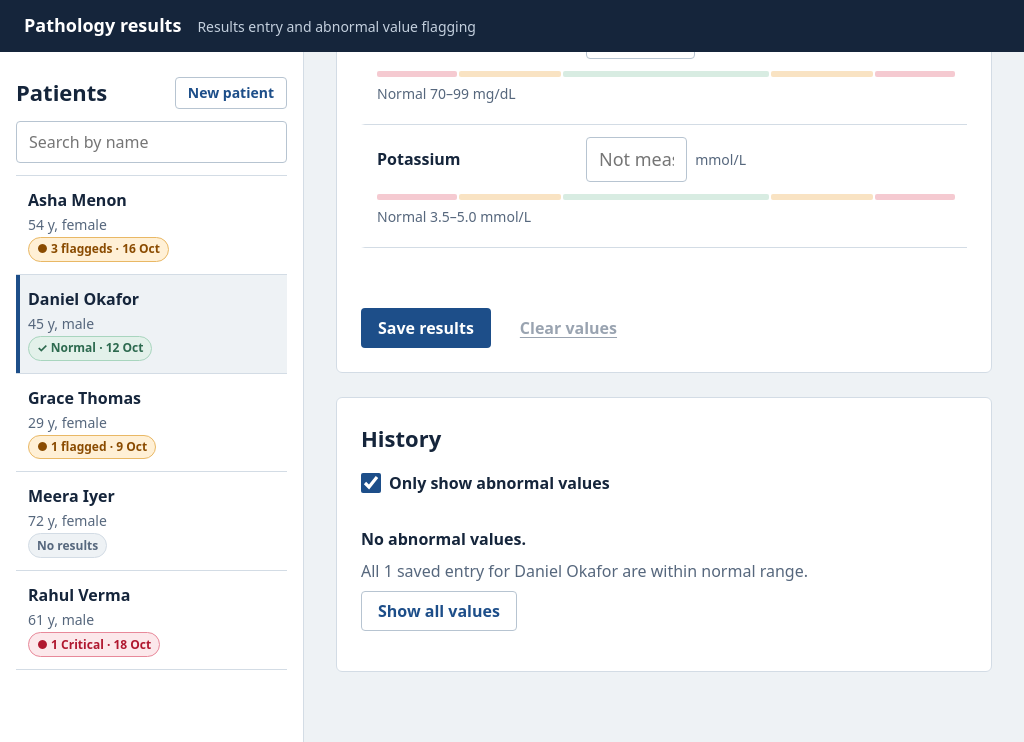
it: patient history view › explains when the filter leaves nothing to show, and offers a way back
(page scrolled)
Expected: the text "No abnormal values." is shown, [361, 527, 526, 551]
Click the button "Show all values": (439, 611) [361, 591, 517, 631]
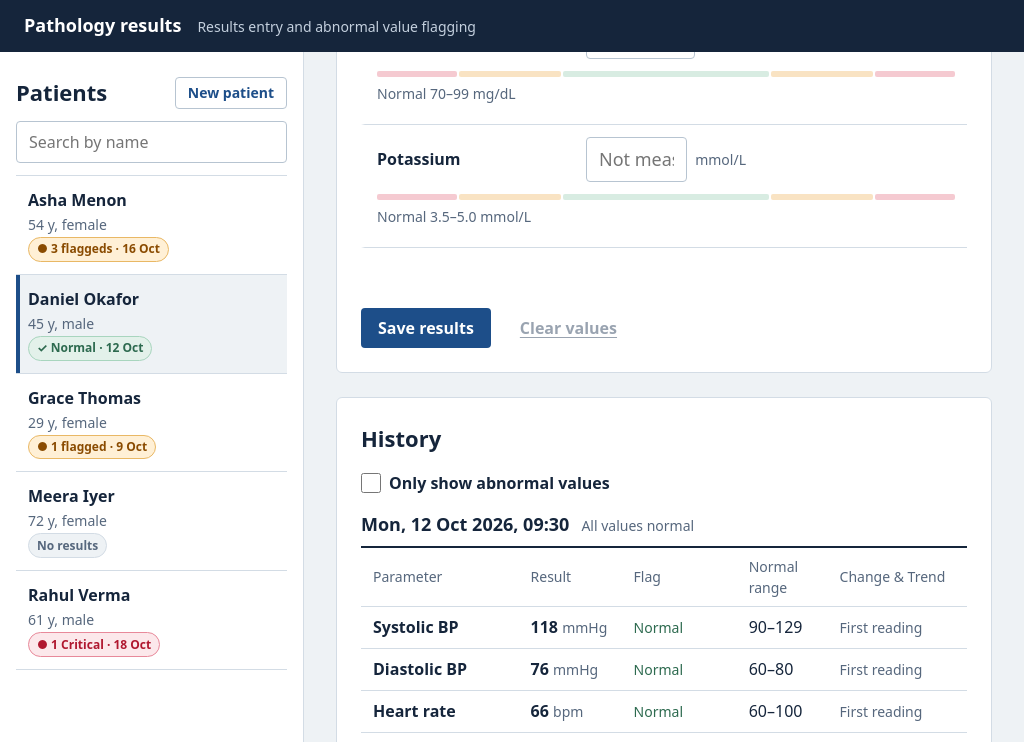
Expected: the checkbox labelled "Only show abnormal values" is not checked, [361, 473, 381, 493]
